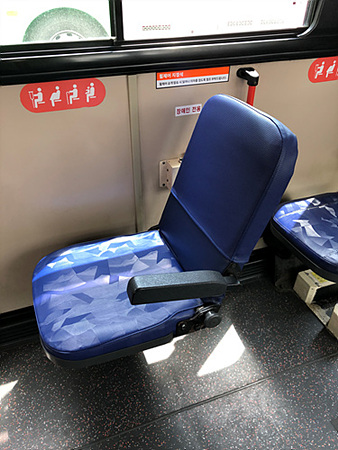seat: (30, 95, 298, 366)
